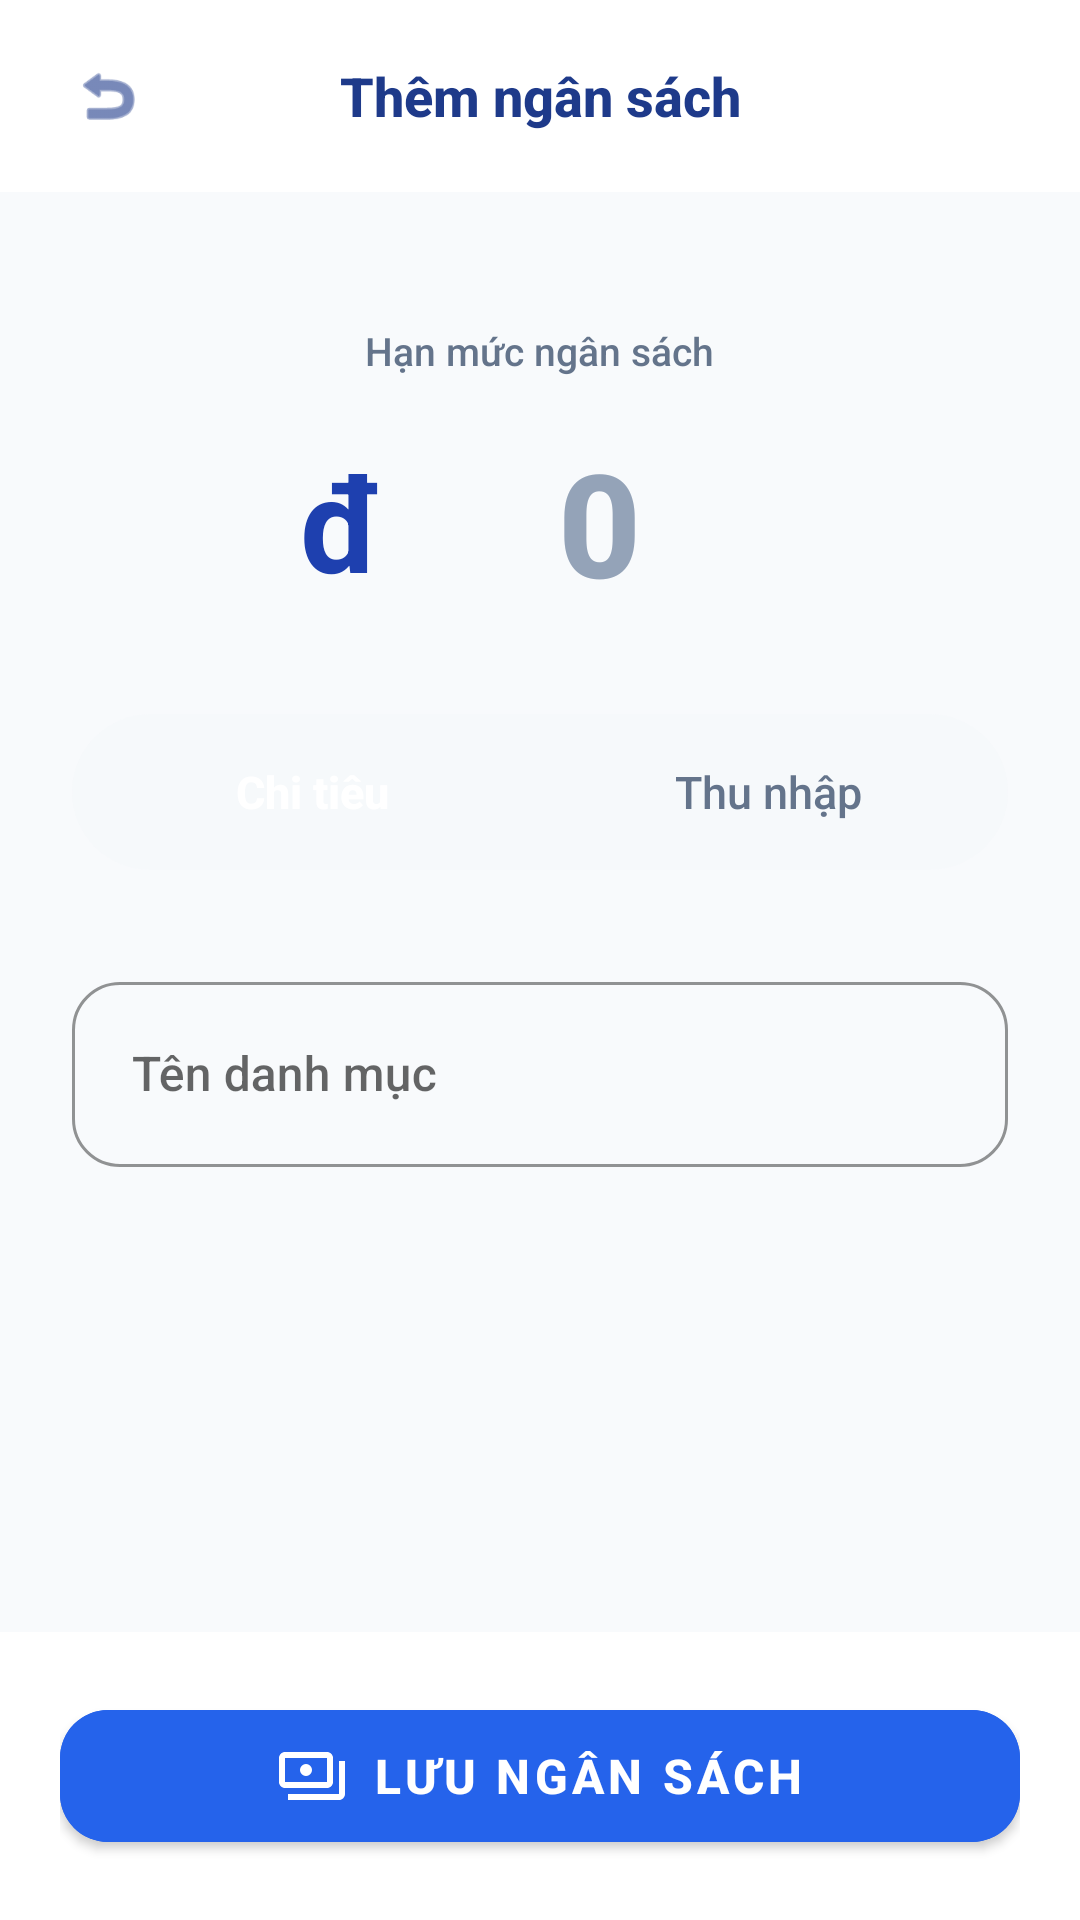

Named icons in this screenshot (1080w x 1920h) and their bounding boxes, (x1, y1, x2, y2):
revert: (83, 73, 135, 120)
